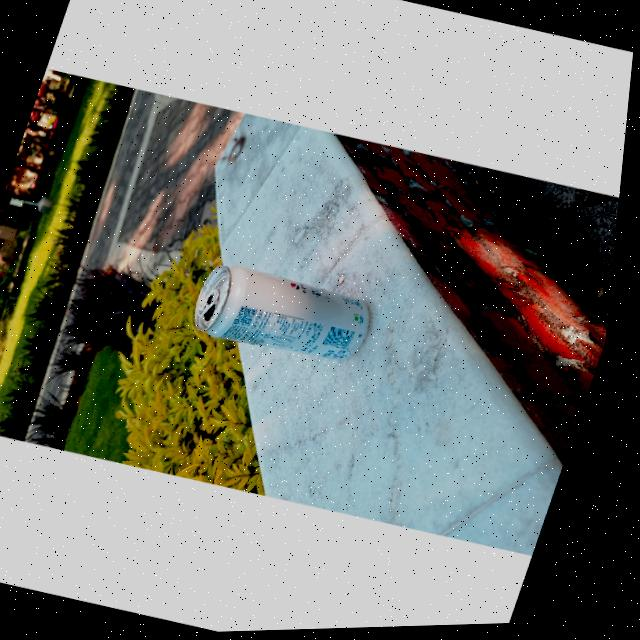Pepsi Retro: (192, 256, 386, 373)
